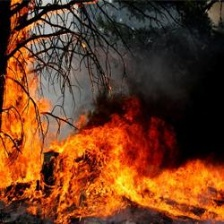fire: (53, 122, 146, 215), (11, 2, 41, 182), (148, 163, 224, 217)
